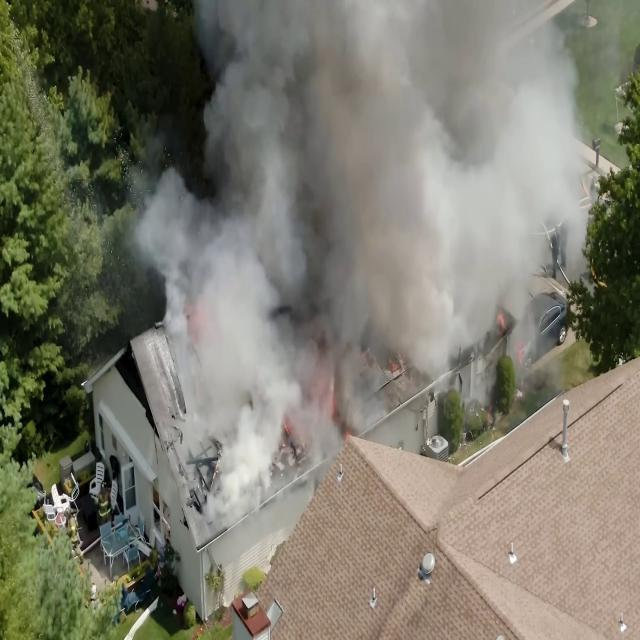Smoke: (231, 2, 437, 339), (390, 2, 529, 310), (159, 187, 271, 392)
